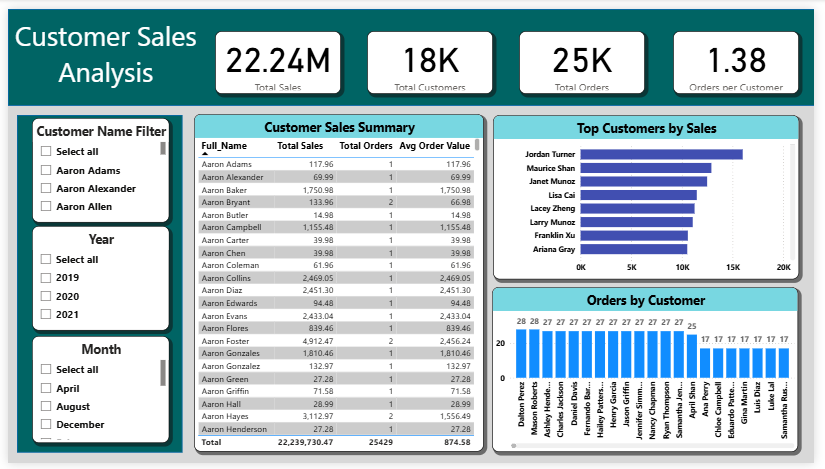

The dashboard page shown, as its layout file describes it:
{"tool":"powerbi","page":{"name":"Customer Sales Dashboard","canvas":[1280,720],"ordinal":1},"visuals":[{"type":"shape","title":"Background 1","box":[14.3,167.9,262.5,535.7],"z":1000,"group":"g1"},{"type":"shape","title":"Background 2","box":[0,0,1280.4,153.6],"z":2000,"group":"g1"},{"type":"group","id":"g1","title":"Group 1","box":[0,0,1280.4,703.6],"z":2500},{"type":"card","title":"Card 4","fields":{"Values":["DIM_Customer.Orders per Customer"]},"box":[1055.4,35.7,200,100],"z":3000},{"type":"tableEx","title":"Customer Sales Summary","fields":{"Values":["DIM_Customer.Full_Name","FACT_InternetSales.Total Sales","FACT_InternetSales.Total Orders","FACT_InternetSales.Avg Order Value"]},"box":[294.8,167.2,460.3,536.2],"z":4000},{"type":"clusteredColumnChart","title":"Orders by Customer","fields":{"Category":["DIM_Customer.Full_Name"],"Y":["FACT_InternetSales.Total Orders"]},"box":[769,441.4,486.2,262.1],"z":5000},{"type":"slicer","title":"Customer Name Filter","fields":{"Values":["DIM_Customer.Full_Name"]},"box":[37.5,173.2,217.9,166.1],"z":6000},{"type":"slicer","title":"Month","fields":{"Values":["DIM_Calendar.Month"]},"box":[37.5,519.6,217.9,169.6],"z":7000},{"type":"card","title":"Card 1","fields":{"Values":["FACT_InternetSales.Total Sales"]},"box":[328.6,35.7,200,100],"z":8000},{"type":"card","title":"Card 2","fields":{"Values":["DIM_Customer.Total Customers"]},"box":[569.6,35.7,200,100],"z":9000},{"type":"card","title":"Card 4","fields":{"Values":["FACT_InternetSales.Total Orders"]},"box":[810.7,35.7,200,100],"z":10000},{"type":"clusteredBarChart","title":"Top Customers by Sales","fields":{"Category":["DIM_Customer.Full_Name"],"Y":["FACT_InternetSales.Total Sales"]},"box":[769.6,167.9,485.7,260.7],"z":11000},{"type":"slicer","title":"Year","fields":{"Values":["DIM_Calendar.Year"]},"box":[37.5,344.6,217.9,166.1],"z":12000},{"type":"textbox","box":[5,8,301,139.7],"z":13000}]}

Visuals, with their boxes in screenshot pixels (x1, y1, x2, y2), scaled from the page's 1280x720 canvas onto the 825x469 screenshot:
"Background 1" shape: pyautogui.locateOnScreen(9, 109, 178, 458)
"Background 2" shape: pyautogui.locateOnScreen(0, 0, 824, 100)
"Group 1" group: pyautogui.locateOnScreen(0, 0, 824, 458)
"Card 4" card: pyautogui.locateOnScreen(680, 23, 809, 88)
"Customer Sales Summary" tableEx: pyautogui.locateOnScreen(190, 109, 487, 458)
"Orders by Customer" clusteredColumnChart: pyautogui.locateOnScreen(496, 288, 809, 458)
"Customer Name Filter" slicer: pyautogui.locateOnScreen(24, 113, 165, 221)
"Month" slicer: pyautogui.locateOnScreen(24, 338, 165, 449)
"Card 1" card: pyautogui.locateOnScreen(212, 23, 341, 88)
"Card 2" card: pyautogui.locateOnScreen(367, 23, 496, 88)
"Card 4" card: pyautogui.locateOnScreen(523, 23, 651, 88)
"Top Customers by Sales" clusteredBarChart: pyautogui.locateOnScreen(496, 109, 809, 279)
"Year" slicer: pyautogui.locateOnScreen(24, 224, 165, 333)
textbox: pyautogui.locateOnScreen(3, 5, 197, 96)
